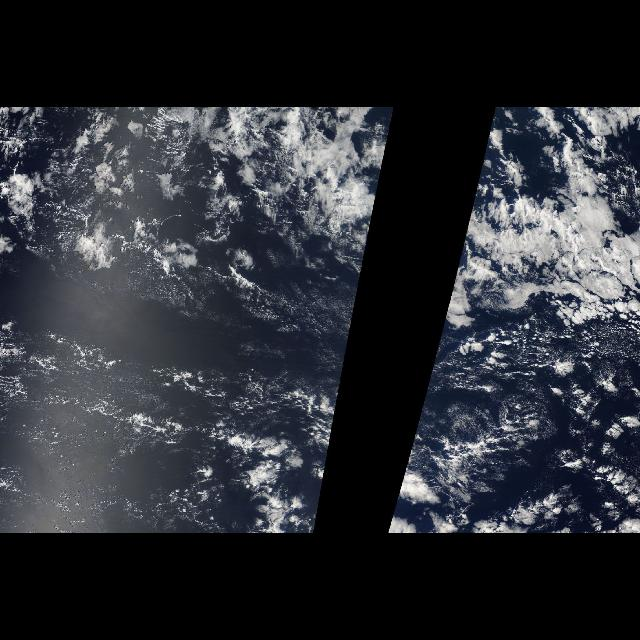Flower: (0, 110, 394, 350), (436, 110, 640, 350), (386, 353, 636, 533), (236, 353, 348, 533)
Gravel: (2, 314, 290, 532)
Sugar: (13, 334, 261, 522)
